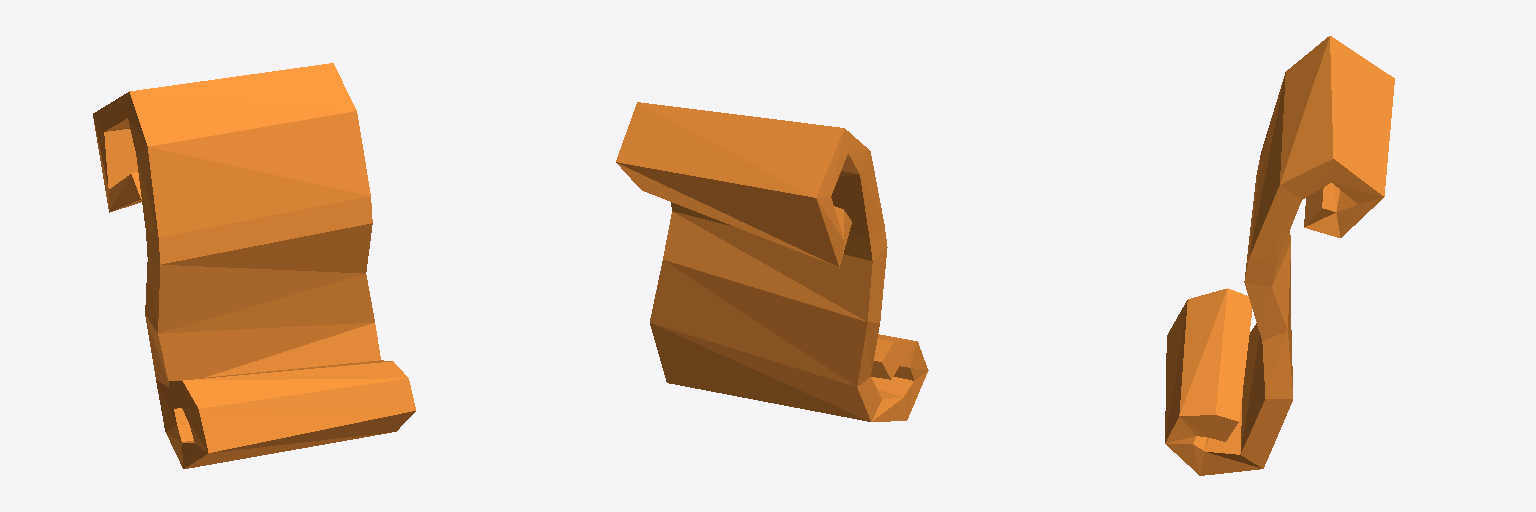
The picture shows the model from 3 angles: view 1: azimuth 30°, elevation 25°; view 2: azimuth 150°, elevation 25°; view 3: azimuth 270°, elevation 25°; orthographic projection.
Parts seen in each view (by area): view 1: group[number redacted]; view 2: group[number redacted]; view 3: group[number redacted].
Boxes of the visible parts, x1=… form: group[number redacted]: x1=93, y1=63, x2=415, y2=468; group[number redacted]: x1=616, y1=102, x2=928, y2=421; group[number redacted]: x1=1165, y1=36, x2=1394, y2=475.
Size of the model in its own units: 0.3692 by 0.5395 by 0.3289.